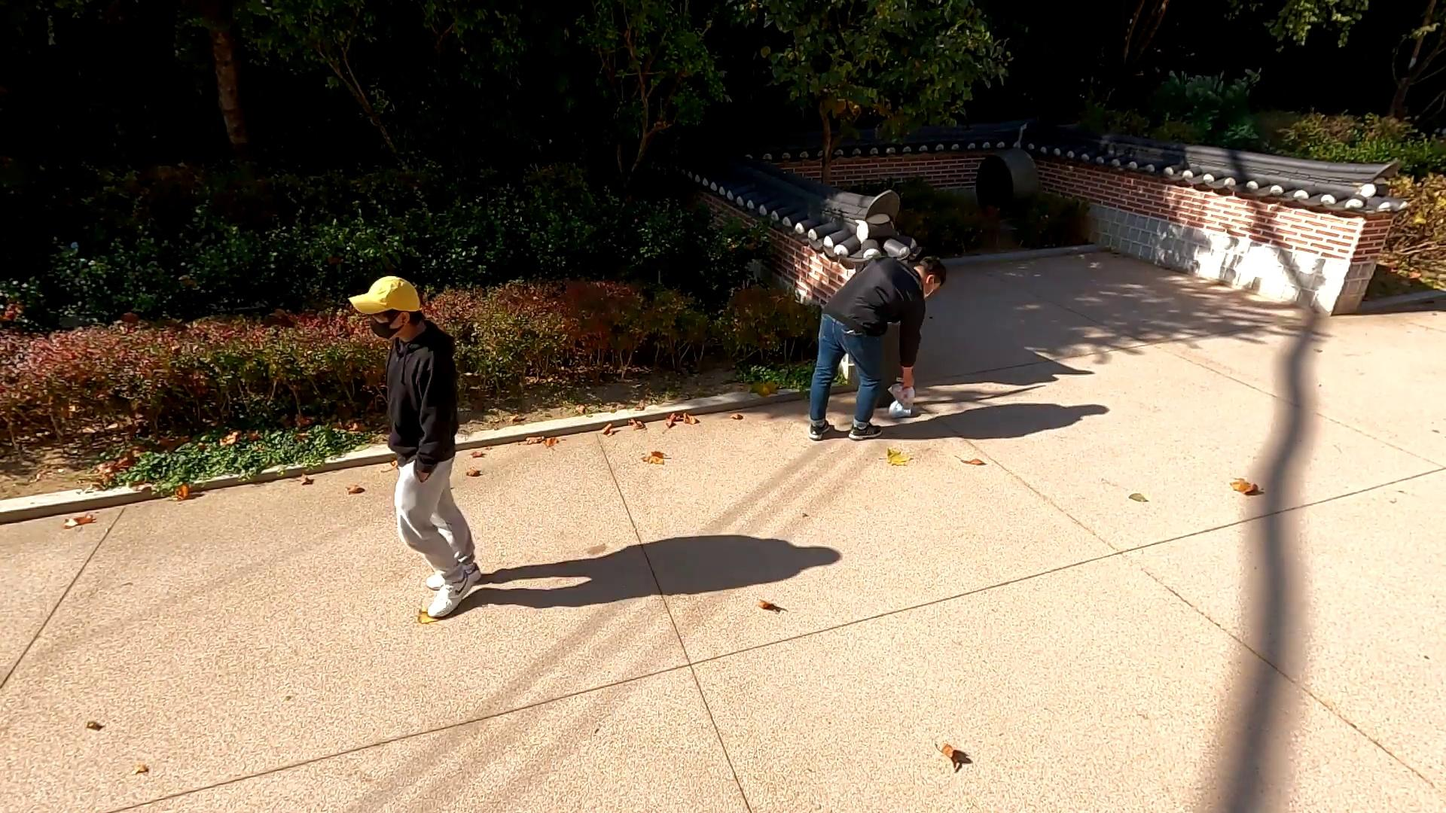person: (349, 272, 485, 616), (808, 252, 948, 442)
trash: (888, 374, 917, 410), (886, 397, 912, 418)
